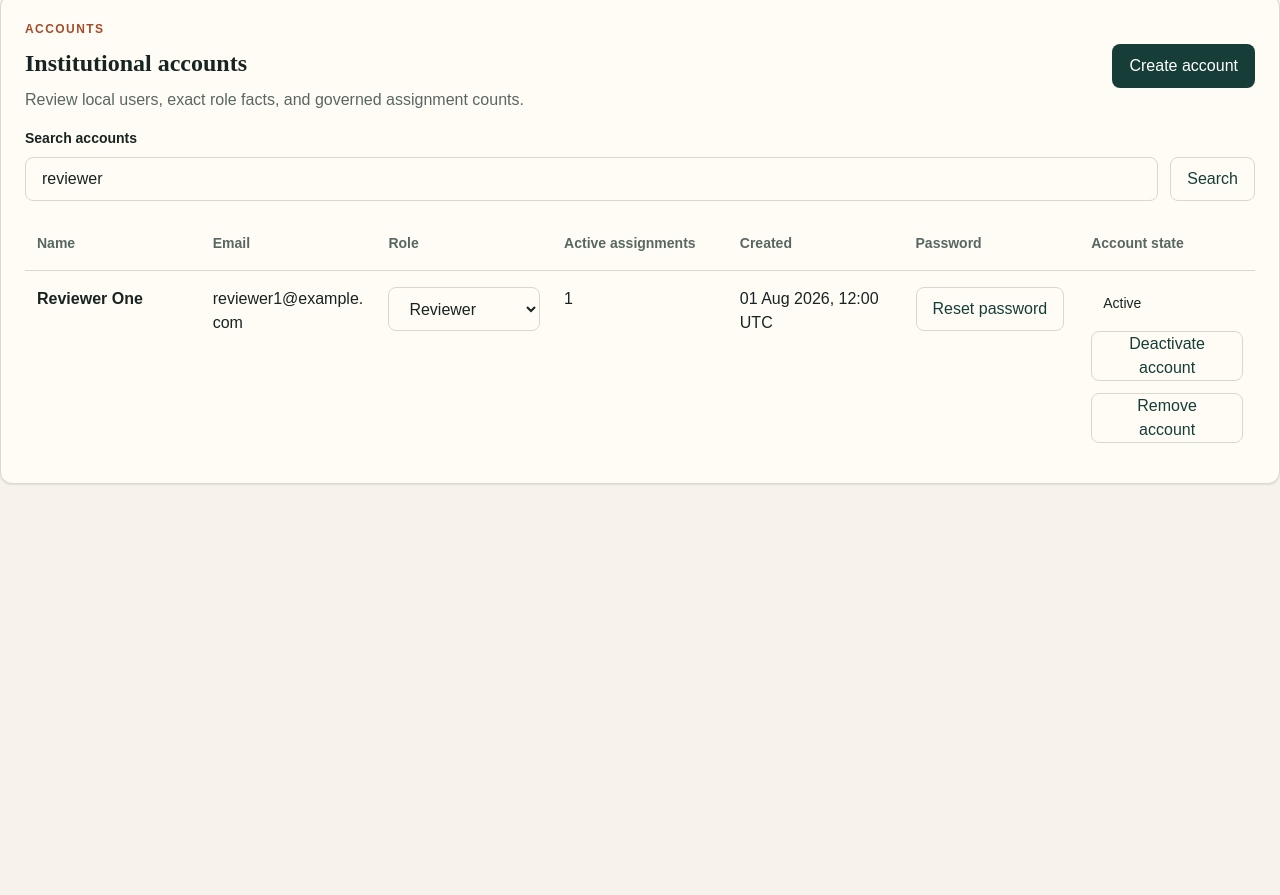
Test case: AccountsSection › retains governance input and focuses an actionable server error
The image size is (1280, 895).
Select "Approver" in the dropdown named "Role for Reviewer One" at (464,309), box [388,287,540,331]
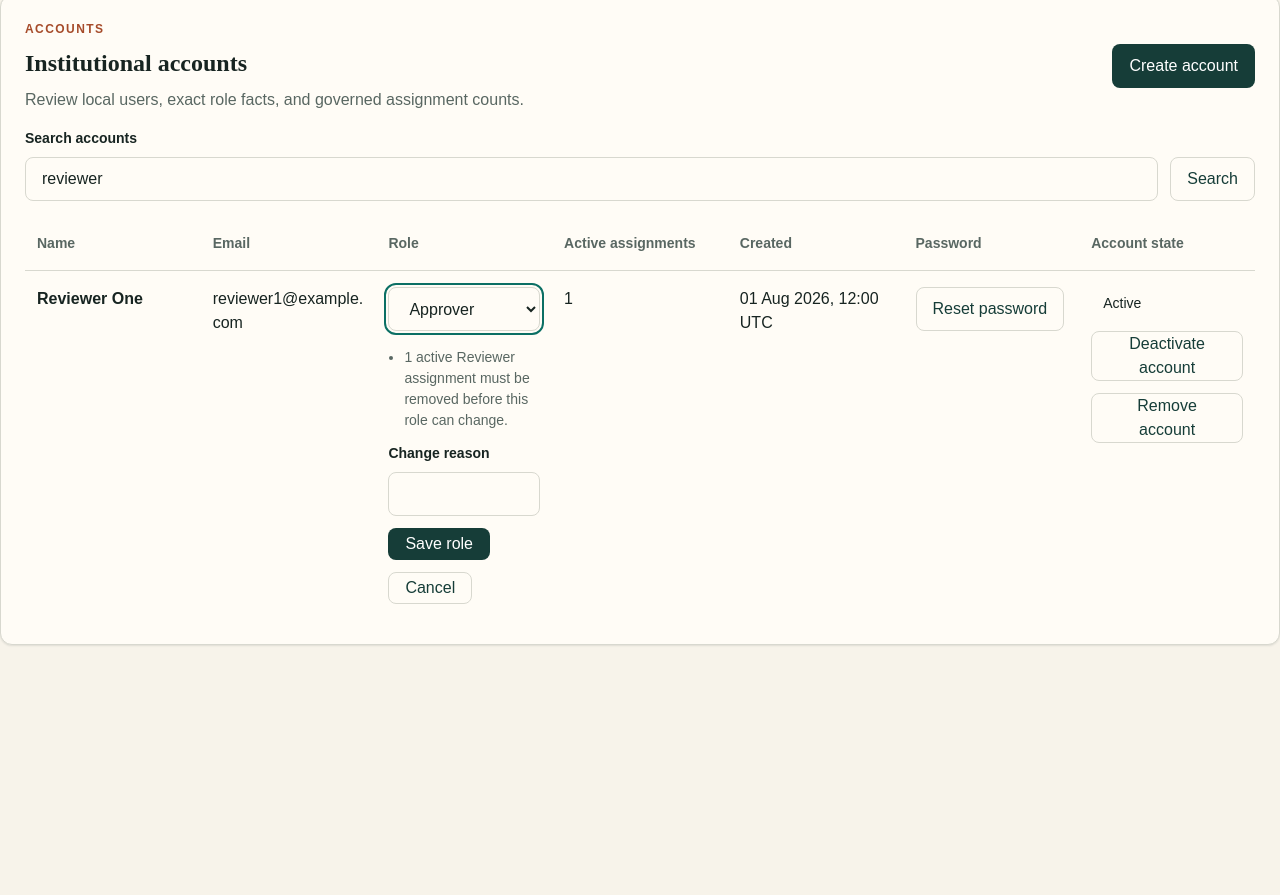
Type "Duties changed for coverage." into the field named "Change reason for Reviewer One" at (464,494), box [388,472,540,516]
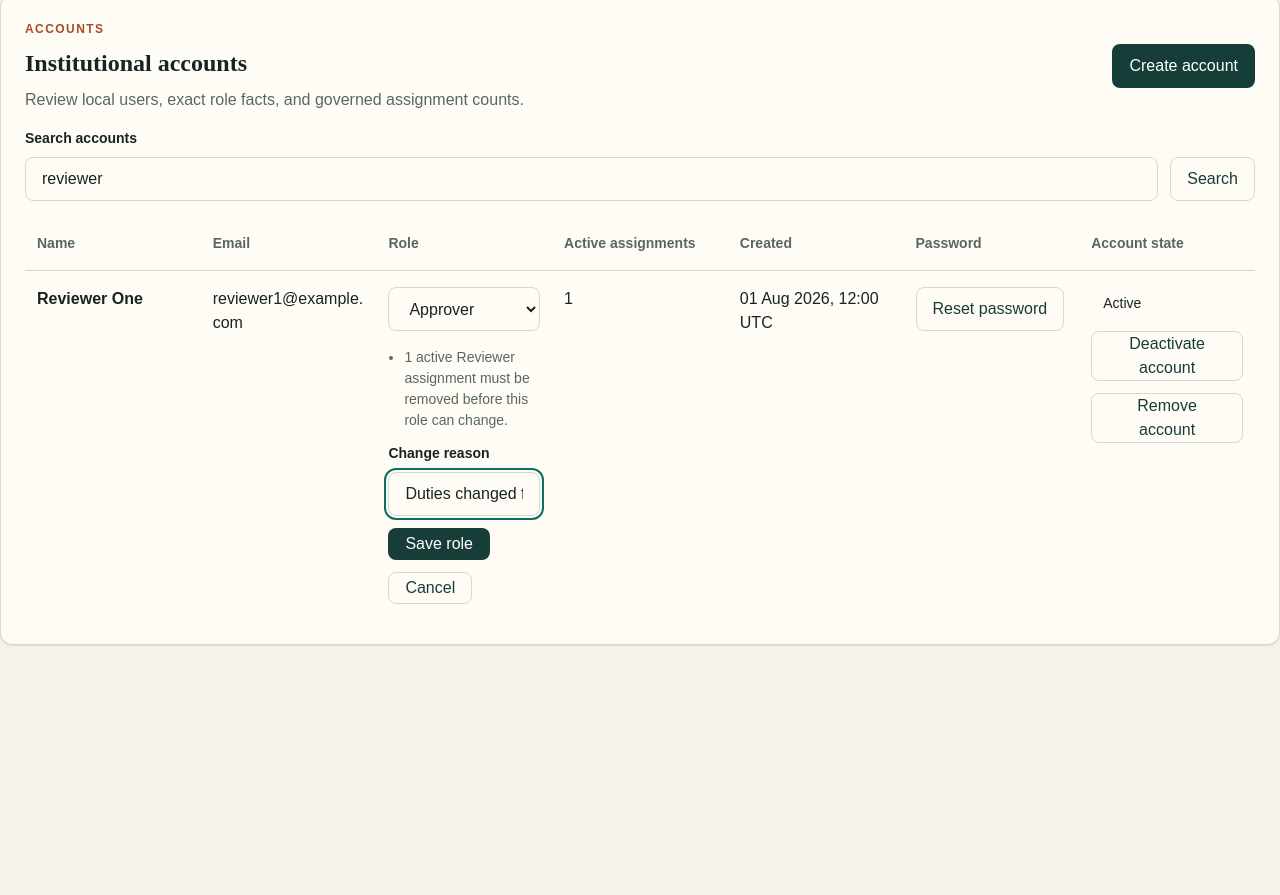
Click the button "Save role" at (439,544), box [388,528,490,560]
(page scrolled)
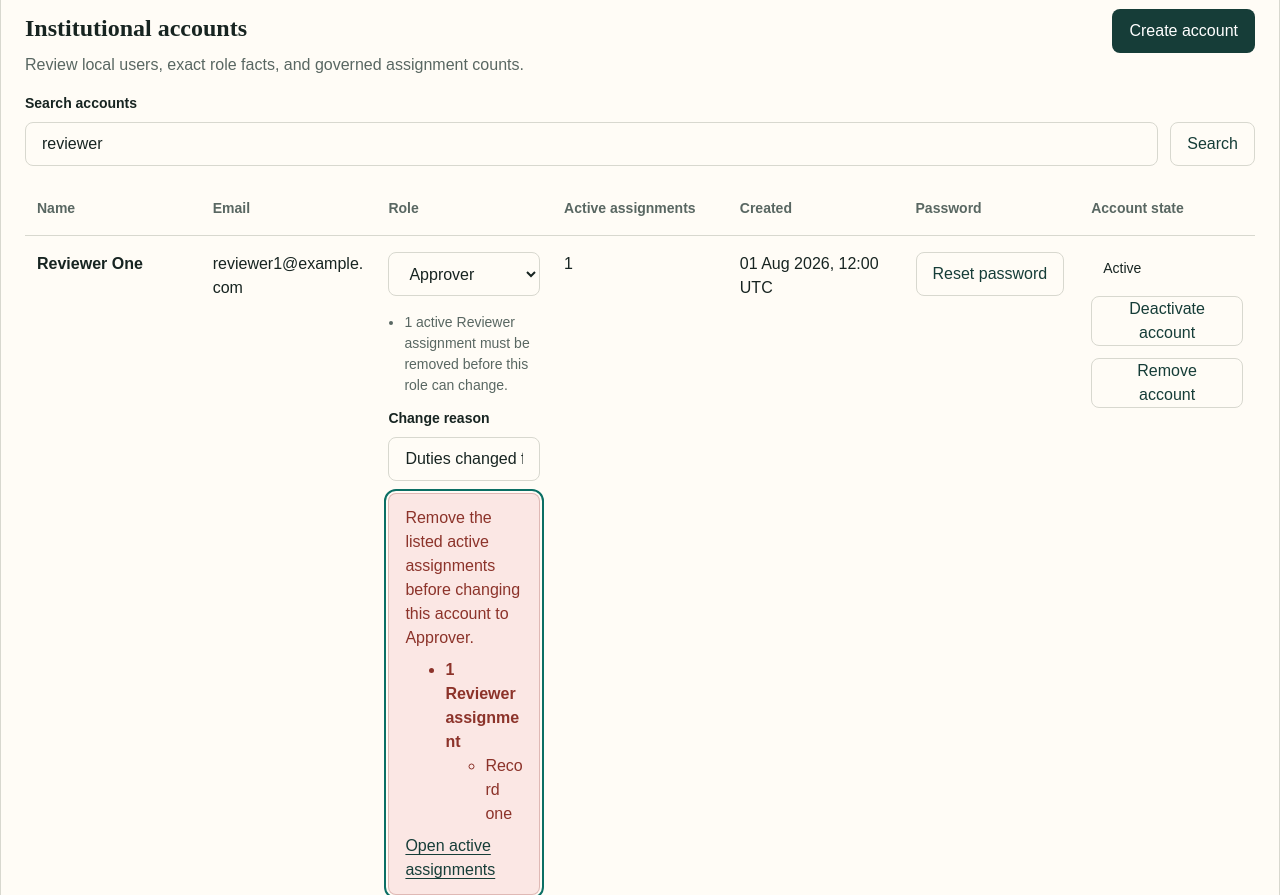
Check: the list item "Record one" is shown, box [485,754,523,826]
